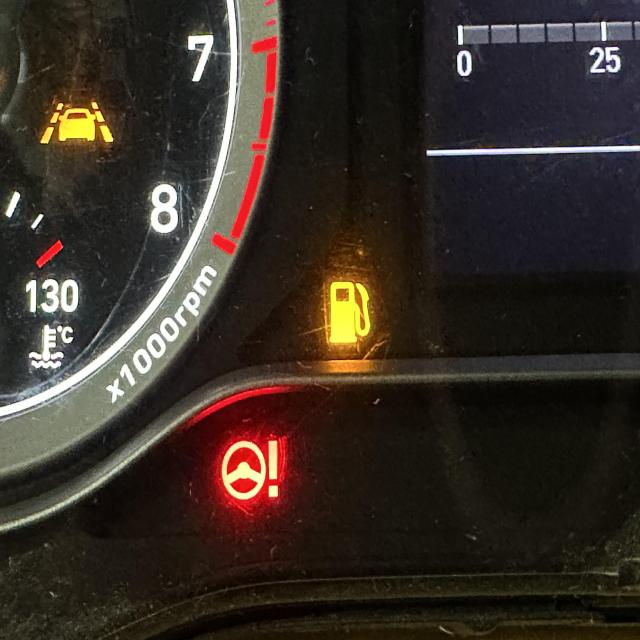LowFuel: (326, 274, 376, 351)
PowerSteeringWarning: (213, 433, 286, 512)
